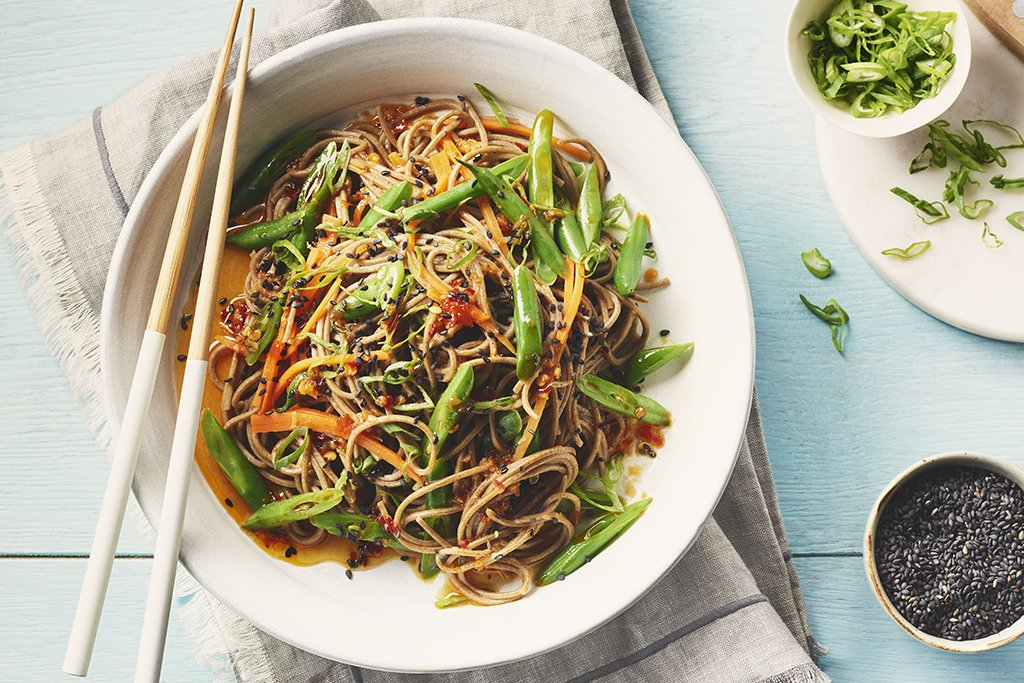Soba: (196, 99, 675, 617)
